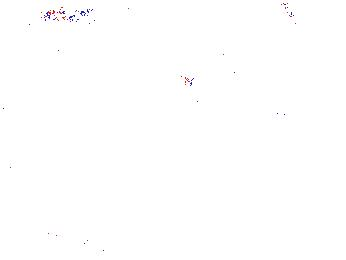X-ray fish: (21, 43, 61, 66)
glassfish: (226, 96, 331, 163)
red belly glassfish: (281, 1, 313, 31), (45, 5, 89, 23)
redtail glassfish: (181, 61, 240, 92), (1, 12, 49, 42)
siberian prawn: (45, 237, 139, 260)
